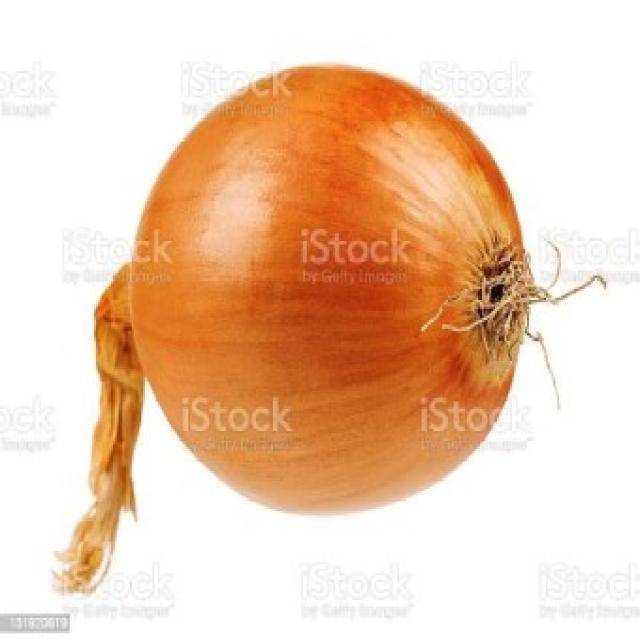onion: (92, 54, 624, 532)
